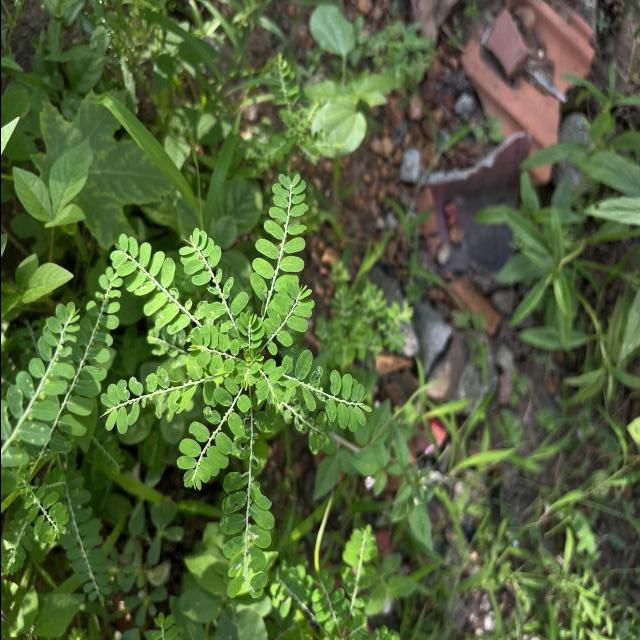Phyllanthus niruri: (107, 232, 208, 341), (177, 377, 252, 498), (248, 170, 306, 312), (216, 468, 276, 604), (292, 346, 374, 436), (96, 369, 194, 436), (176, 226, 237, 310), (261, 280, 314, 358), (186, 322, 238, 374)
